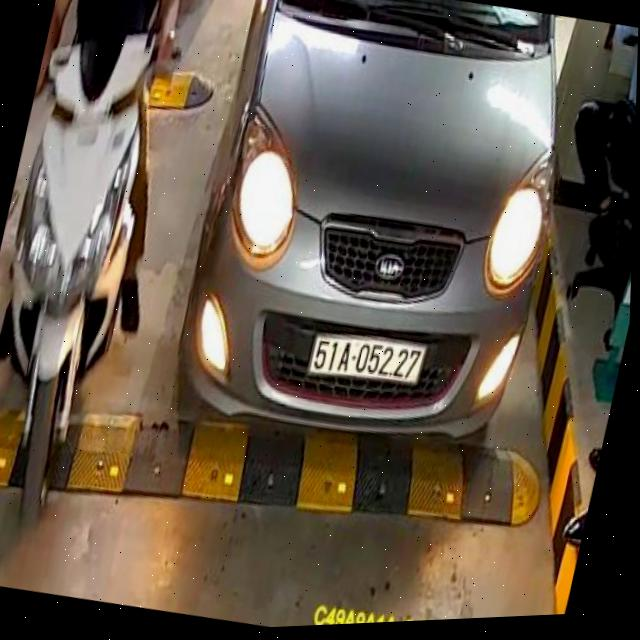car: (149, 0, 594, 484)
motorcycle: (0, 0, 200, 542)
plate: (301, 319, 432, 395)
